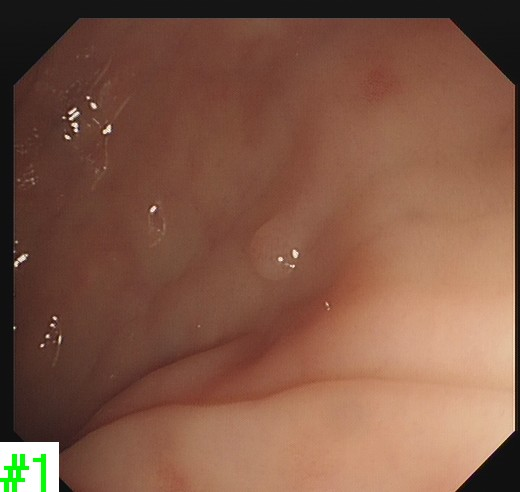others: (245, 212, 304, 285)
